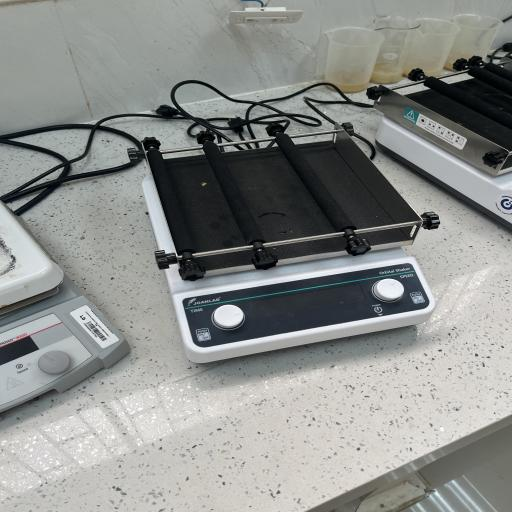Agitador_Orbital_DLAB: (124, 111, 458, 375)
